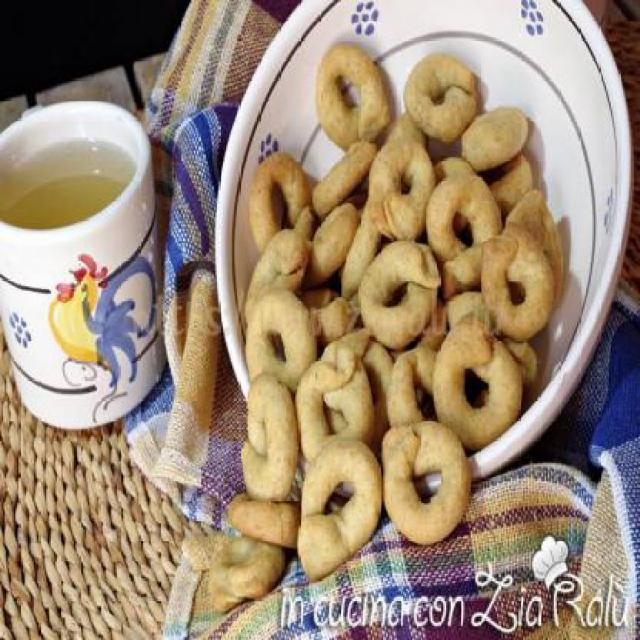Taralli: (215, 37, 560, 606)
